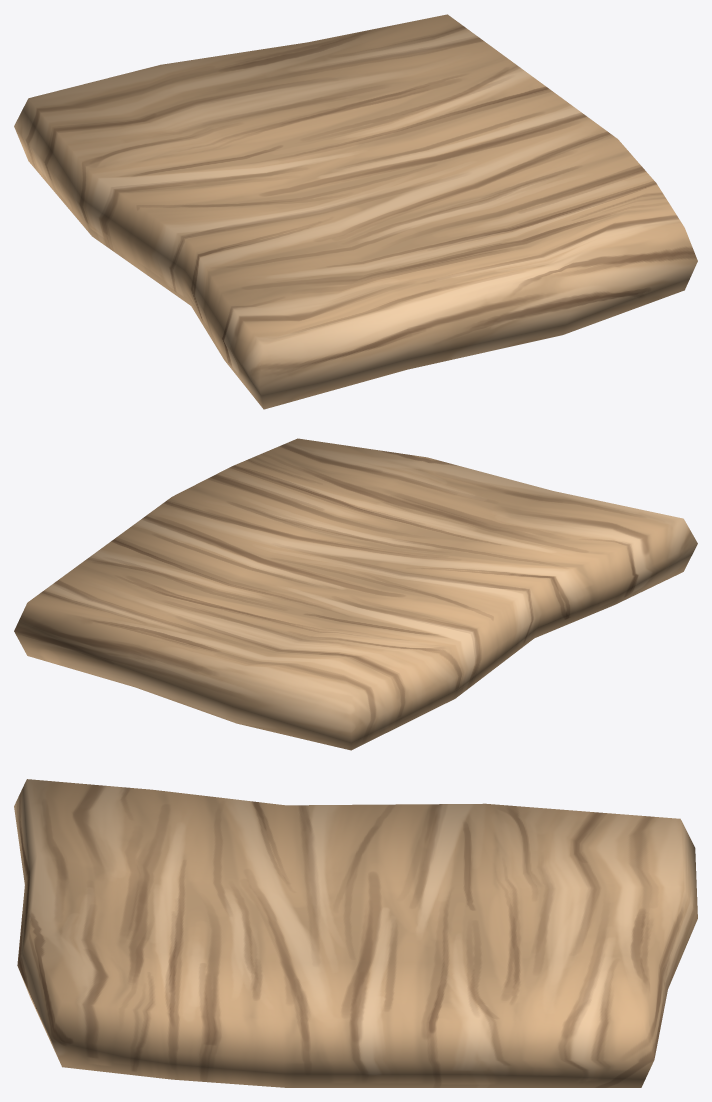
Rendered from beef_makchang.fbx.
3 views of the same model, one above another, from view 1: azimuth 30°, elevation 25°; view 2: azimuth 150°, elevation 25°; view 3: azimuth 270°, elevation 25° (orthographic). The views are drawn at different scales.
Parts seen in each view (by area): view 1: beef makchang; view 2: beef makchang; view 3: beef makchang.
Part boxes in pixels (left/top/right/bottom): beef makchang: left=14, top=14, right=697, bottom=409; beef makchang: left=14, top=438, right=697, bottom=750; beef makchang: left=14, top=779, right=697, bottom=1087.
Bounding box in the file's own units: 26.91 × 3.23 × 30.66.
